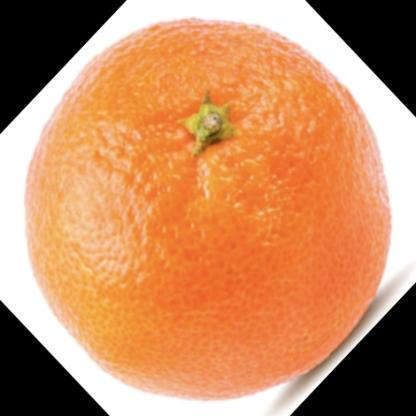fresh: (29, 17, 390, 404)
